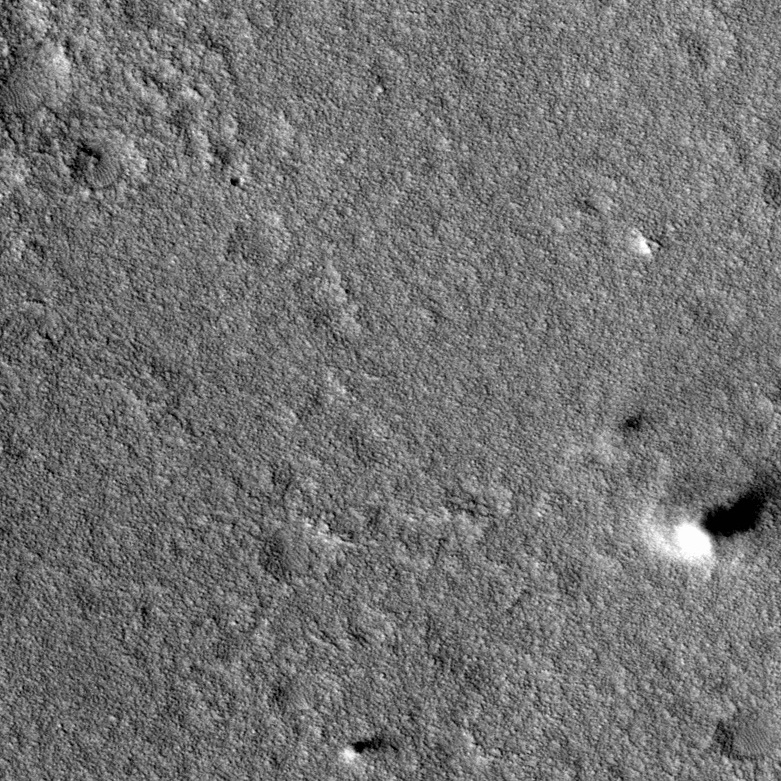dust_devil: (642, 470, 781, 571), (337, 733, 399, 765)
